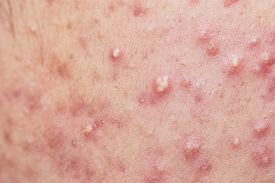bekas: (57, 65, 68, 77), (88, 106, 97, 117), (48, 138, 57, 148), (69, 160, 79, 168)
jerawat: (252, 121, 272, 138), (200, 163, 213, 173), (156, 166, 167, 175), (181, 80, 191, 88), (254, 65, 262, 73), (192, 95, 201, 102), (145, 176, 155, 182), (28, 26, 37, 32), (71, 140, 77, 148), (147, 130, 154, 136), (217, 92, 223, 98), (81, 40, 87, 46), (142, 54, 147, 58)
pus: (154, 74, 170, 96), (183, 143, 200, 159), (261, 54, 274, 66), (110, 48, 123, 59), (82, 125, 95, 136), (199, 31, 210, 42), (230, 59, 242, 69), (231, 137, 241, 147), (208, 44, 217, 54), (262, 156, 270, 165), (251, 39, 259, 47), (140, 98, 144, 103)
